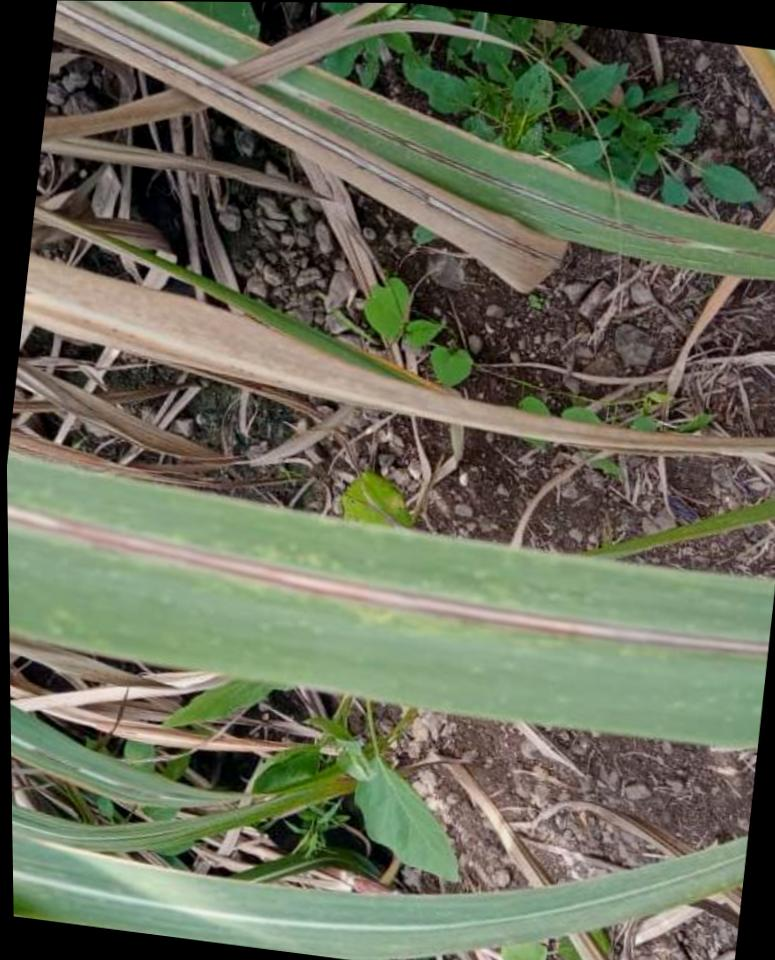RedRot: (7, 502, 768, 657)
